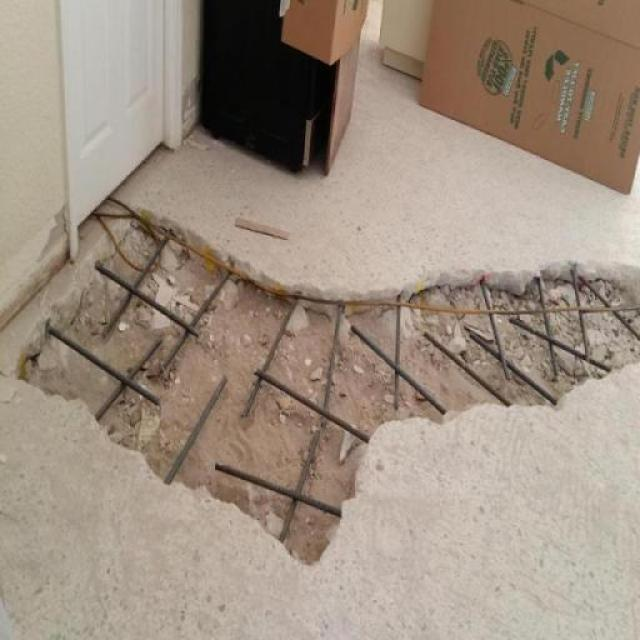D0w0: (16, 208, 638, 566)
